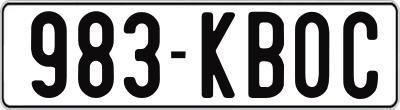0: (293, 12, 327, 99)
3: (123, 9, 163, 98)
8: (76, 10, 118, 103)
9: (29, 8, 71, 101)
B: (245, 9, 286, 96)
C: (343, 12, 380, 104)
K: (199, 12, 237, 100)
